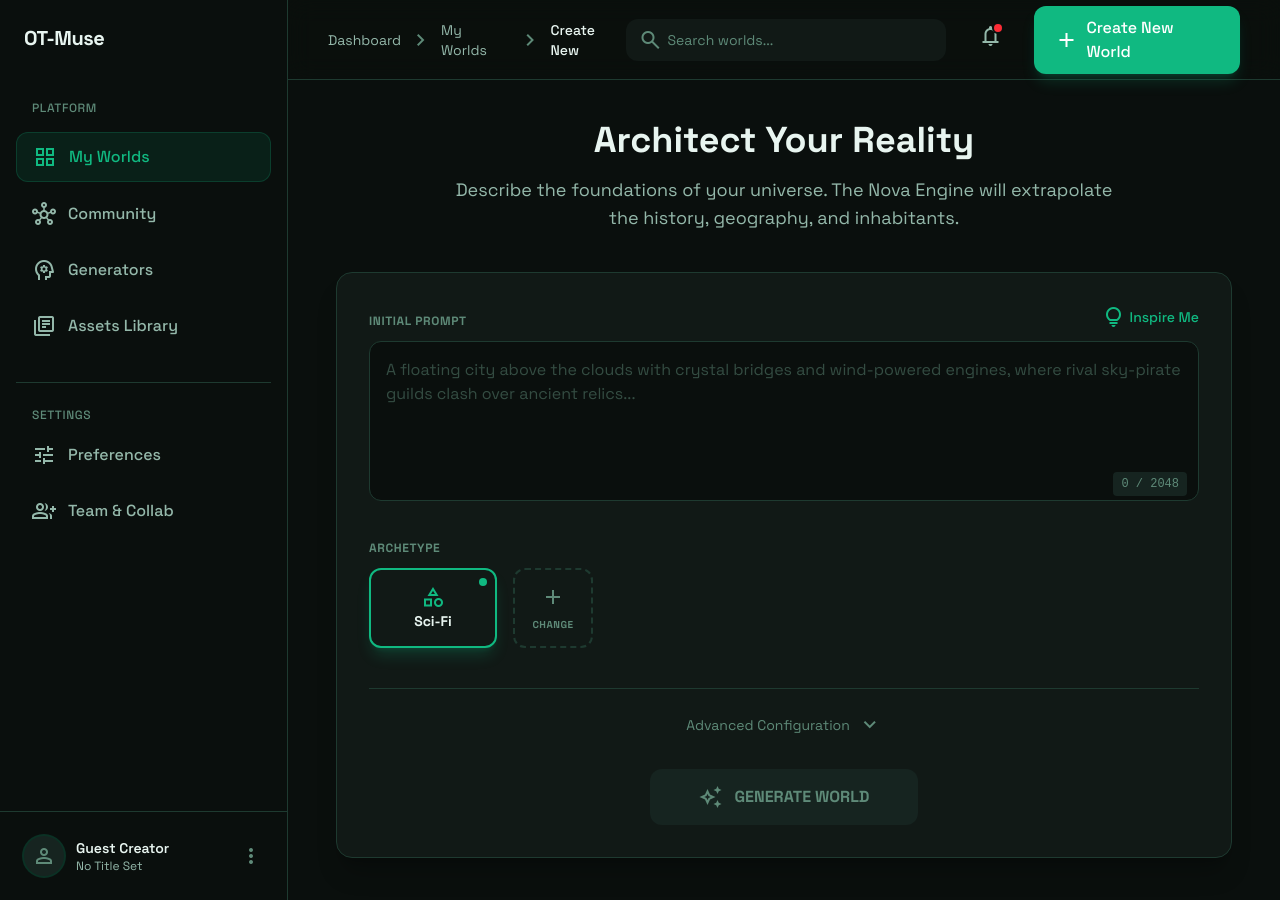
it: CreateWorldPage › toggles the advanced configuration accordion
Expected: the text "Advanced settings parameters will be available" is not shown
# Open accordion
What coordinates should you click on to do the following:
click the button "Advanced Configuration"
I would click on:
 (784, 725)
Its box is left=369, top=713, right=1199, bottom=737.
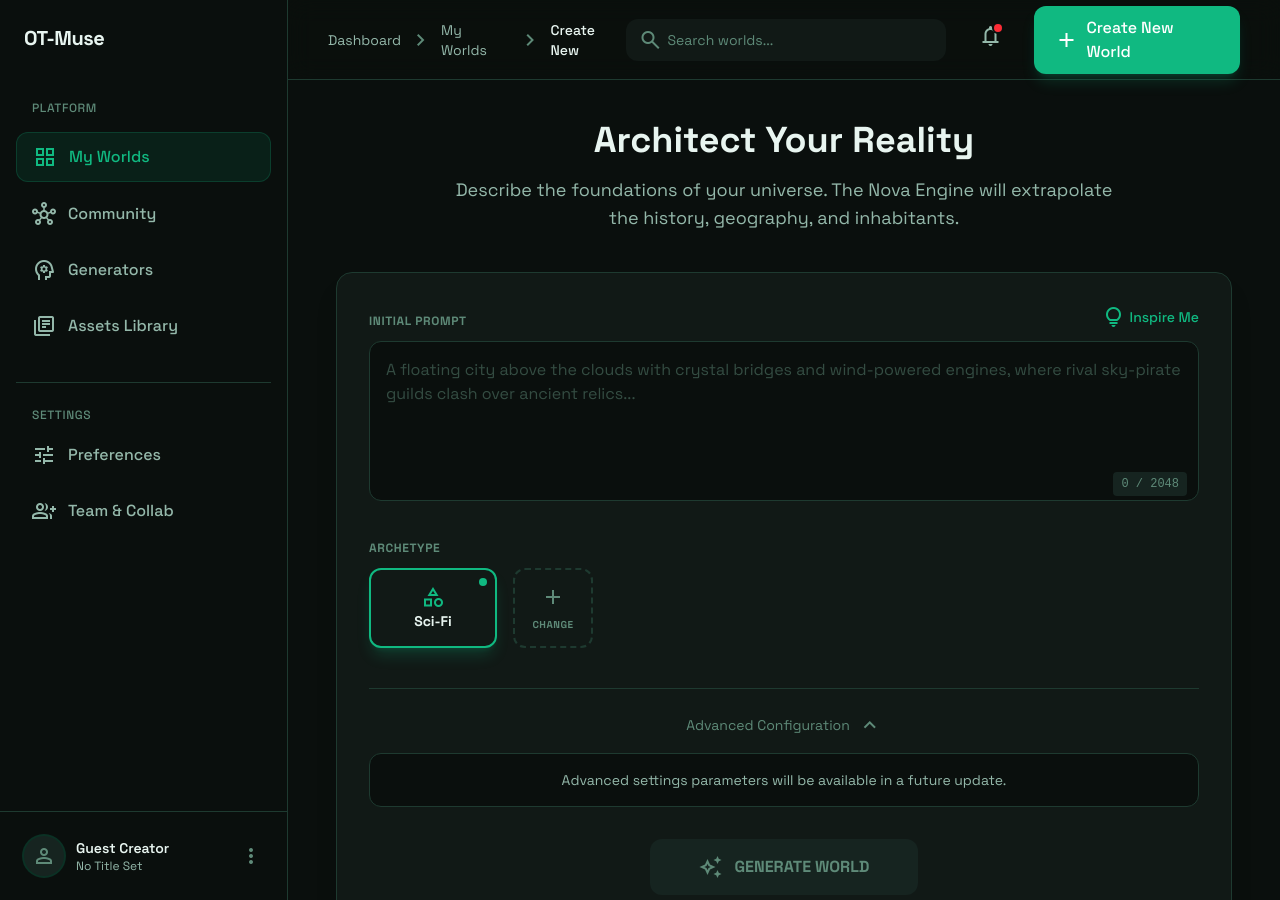
Result: the text "Advanced settings parameters will be available" is shown at left=562, top=771, right=1006, bottom=789
# Close accordion
What coordinates should you click on to do the following:
click the button "Advanced Configuration"
I would click on:
 (784, 725)
Its box is left=369, top=713, right=1199, bottom=737.
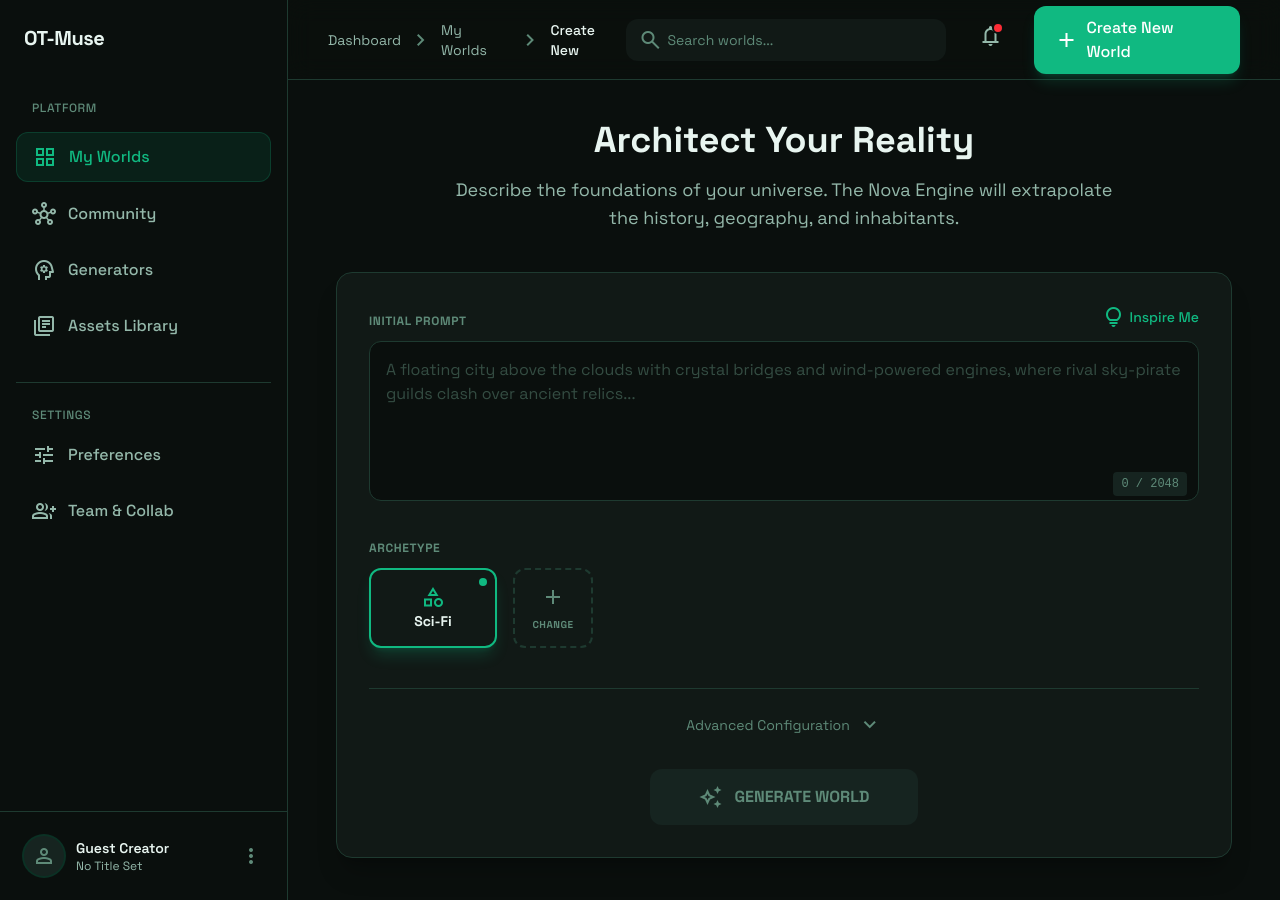
Result: the text "Advanced settings parameters will be available" is gone
